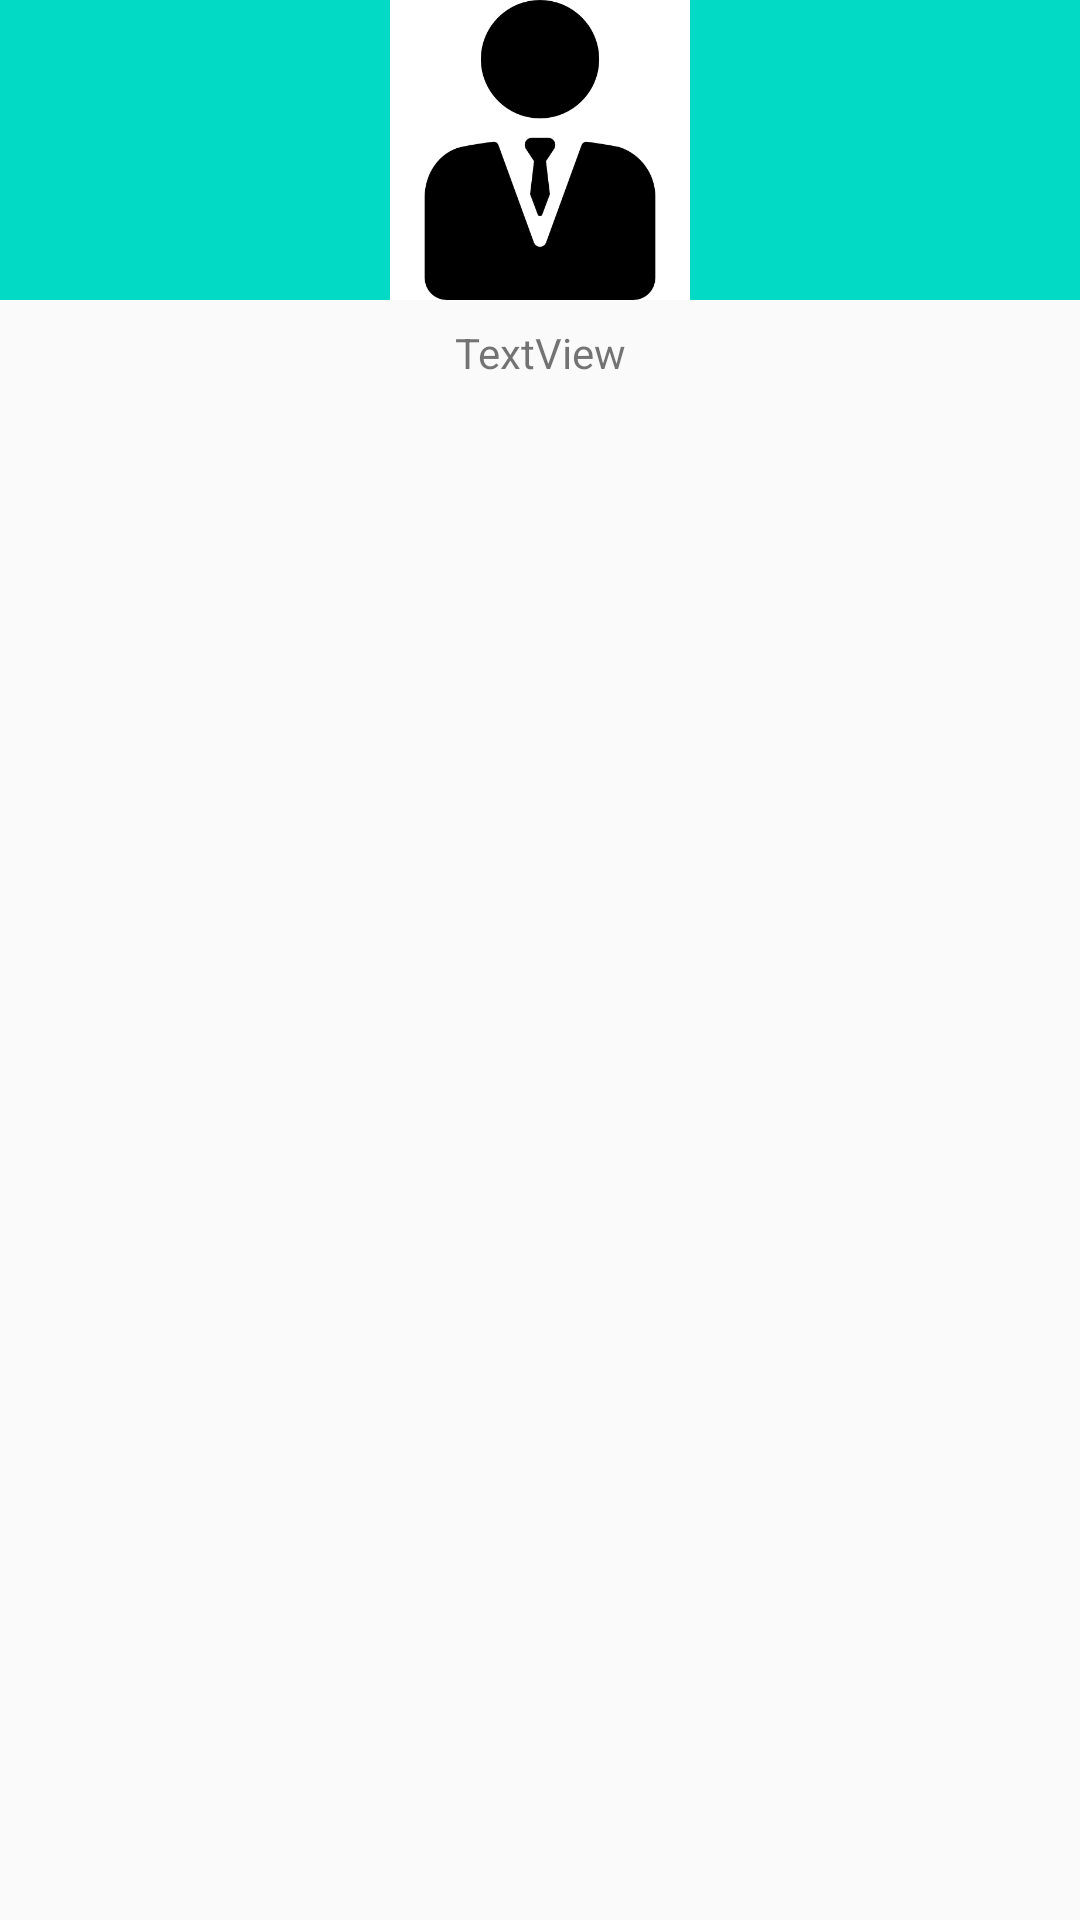

Icon click points for this 1080 × 1920 phone screenshot, format point (x, y):
manager: point (540, 150)
